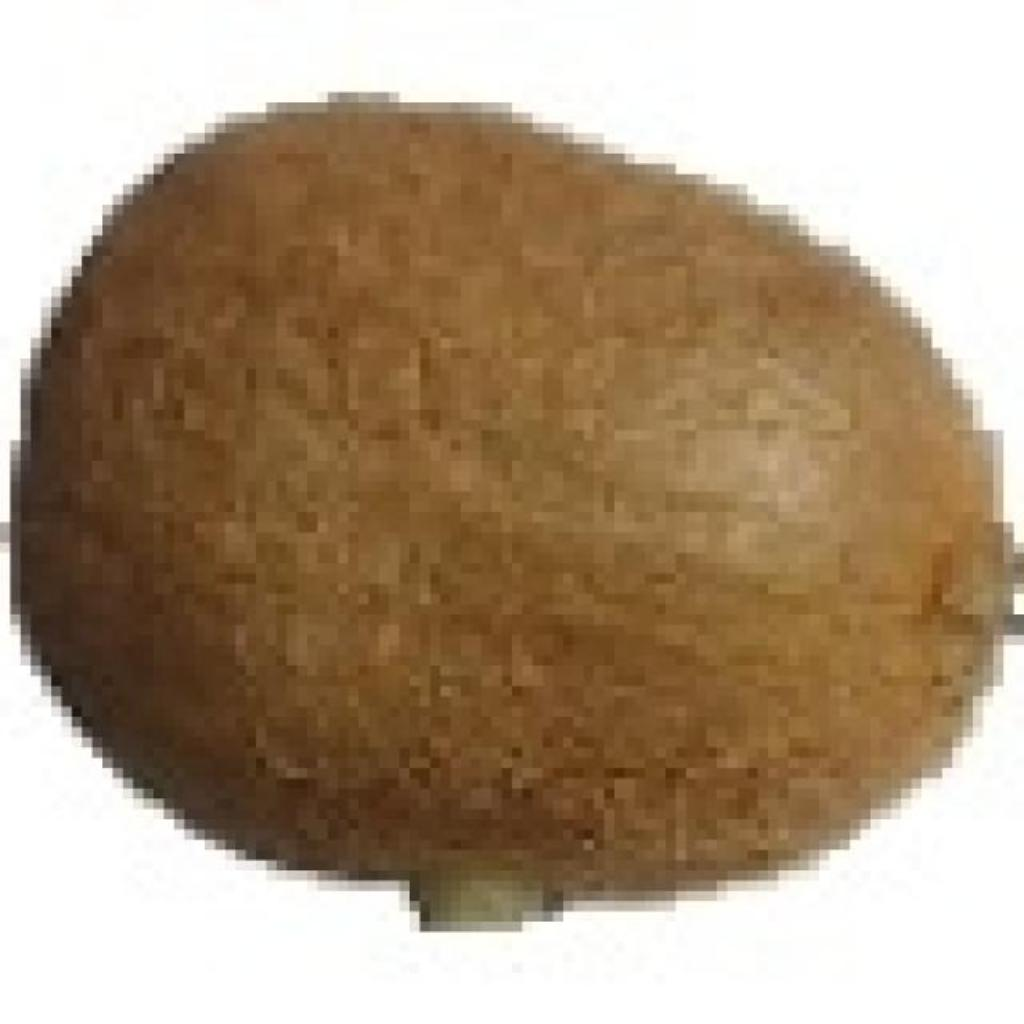kiwi: (31, 82, 1014, 901)
